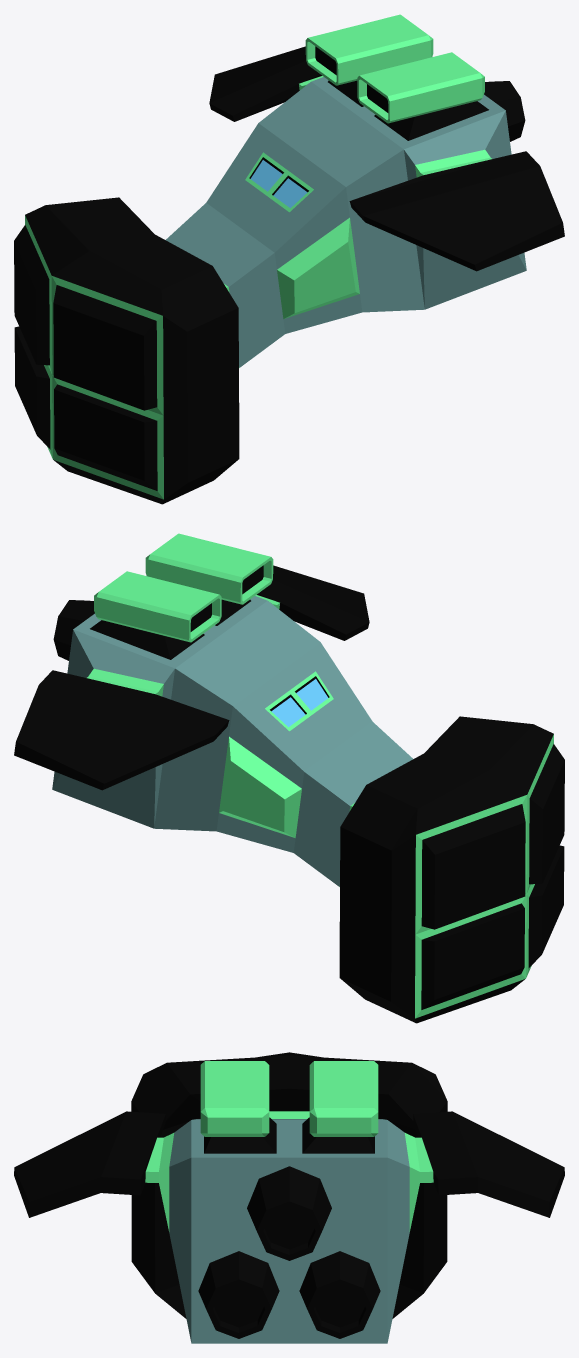
Rendered from defender4.fbx.
The picture shows the model from 3 angles, top to bottom: view 1: azimuth 30°, elevation 25°; view 2: azimuth 150°, elevation 25°; view 3: azimuth 270°, elevation 25°; orthographic projection. The views are drawn at different scales.
Parts seen in each view (by area): view 1: Defender4; view 2: Defender4; view 3: Defender4.
Part boxes in pixels (<box>): Defender4: <box>14,14,564,504</box>; Defender4: <box>14,533,564,1023</box>; Defender4: <box>14,1052,564,1343</box>.
Size of the model in its own units: 566 by 392 by 549.
